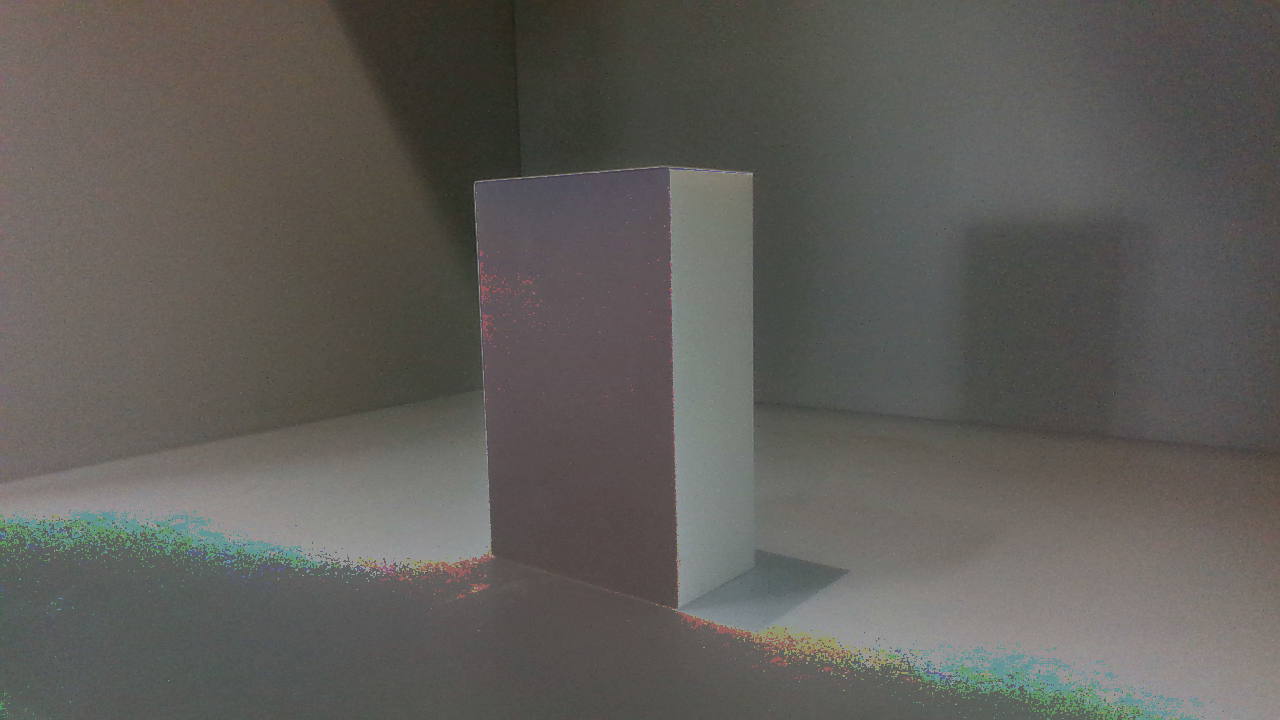Retangulo: (475, 166, 755, 607)
